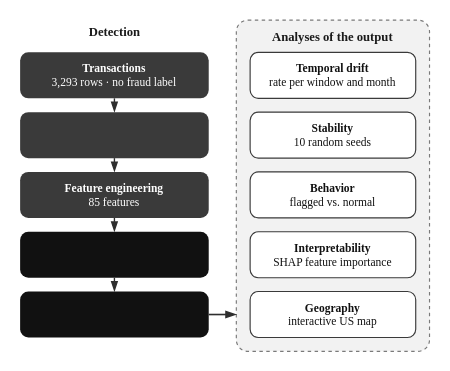
Some shapes in this 450 by 371 pixel diagram are drawn without their labels. Here are the shapes that lost their labels. From the top down, the centre of each, then its label:
At pixel 114 135: "Temporal split train · validation · test".
At pixel 114 254: "Isolation Forest 300 trees · top-2% threshold".
At pixel 114 314: "Anomaly score + flag per transaction".
